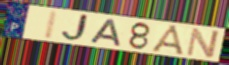8: (128, 22, 151, 50)
A: (149, 24, 187, 57), (87, 18, 123, 47)
I: (42, 9, 60, 41)
J: (60, 13, 93, 43)
N: (184, 26, 221, 59)
